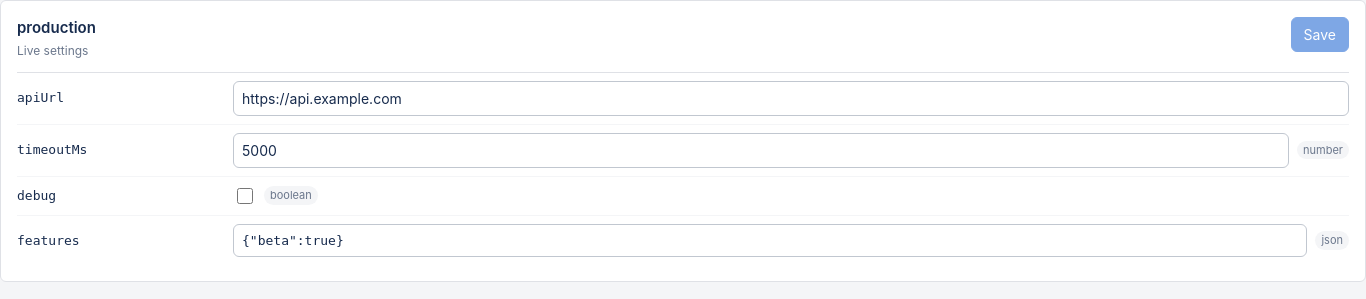
Test: ConfigurationCard › sends the whole config with the edited value and confirms the save
Type "/v2" into the field labelled "apiUrl".
click(791, 98); type("/v2")  # box [233,80,1349,116]
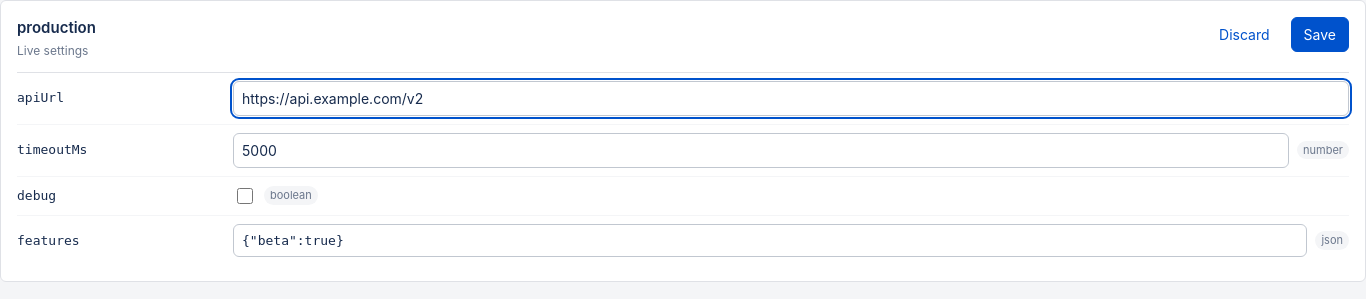
Click the button "Save".
click(1320, 34)  # box [1291,17,1349,52]
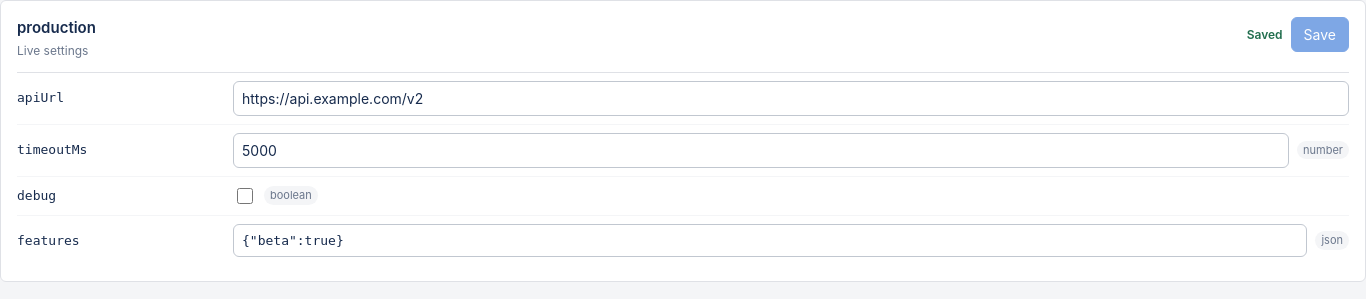
expect the text "Saved" is shown: met, box [1247,26,1283,44]
expect the button "Save" is disabled: met, box [1291,17,1349,52]
